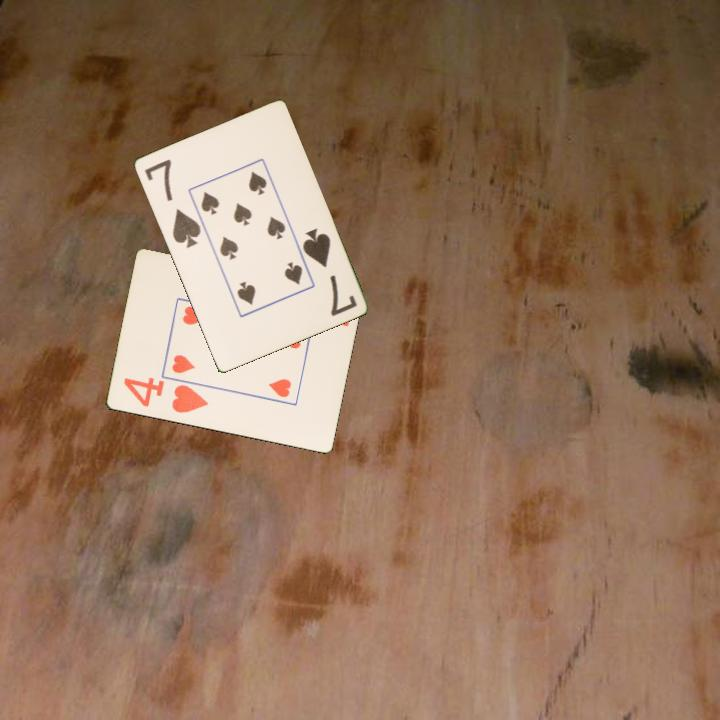4h: (120, 374, 211, 416)
7s: (140, 155, 204, 251), (299, 224, 360, 319)
